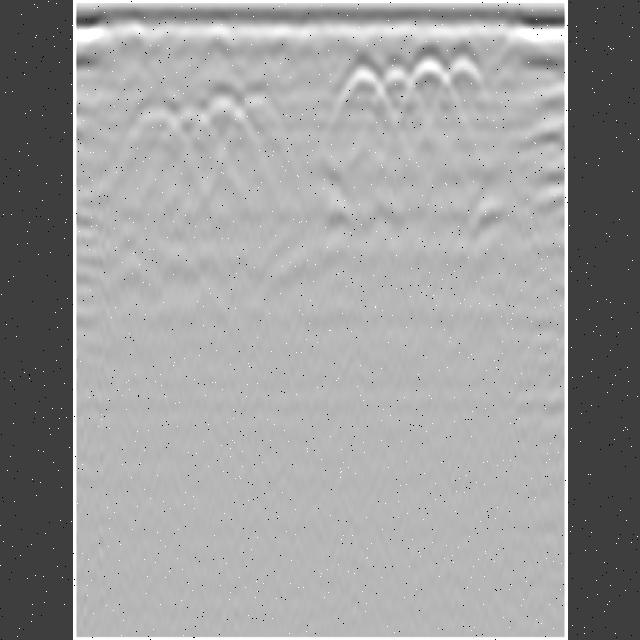hyperbola: (124, 104, 174, 170), (334, 66, 388, 114), (235, 92, 288, 138), (196, 92, 248, 138), (404, 53, 452, 101), (171, 106, 213, 152), (442, 56, 486, 98), (375, 65, 413, 111)
